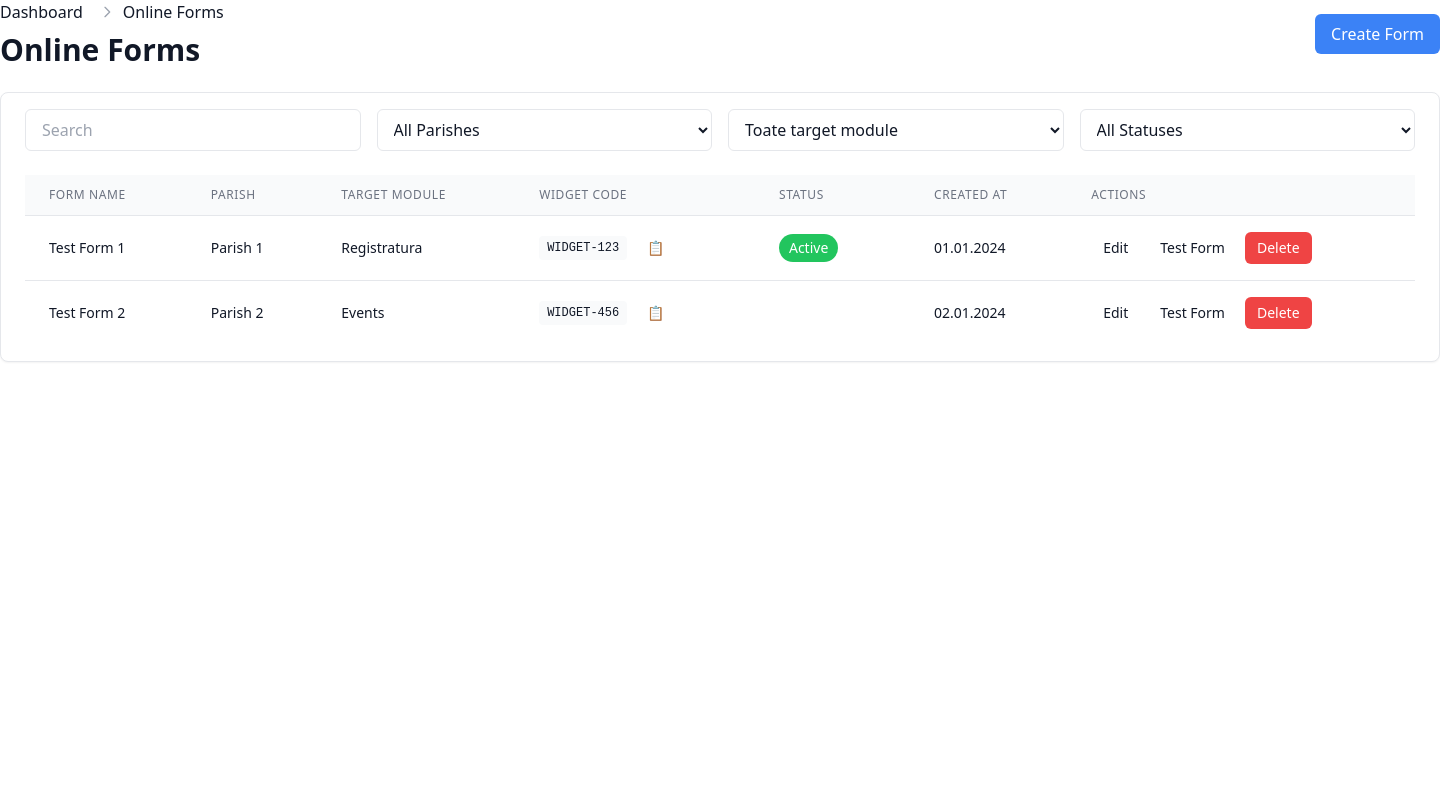
OnlineFormsPageContent › should open delete confirmation modal
Click the button "Delete" in the row of "Test Form 1".
click(1278, 248)  # box [1245,232,1312,264]
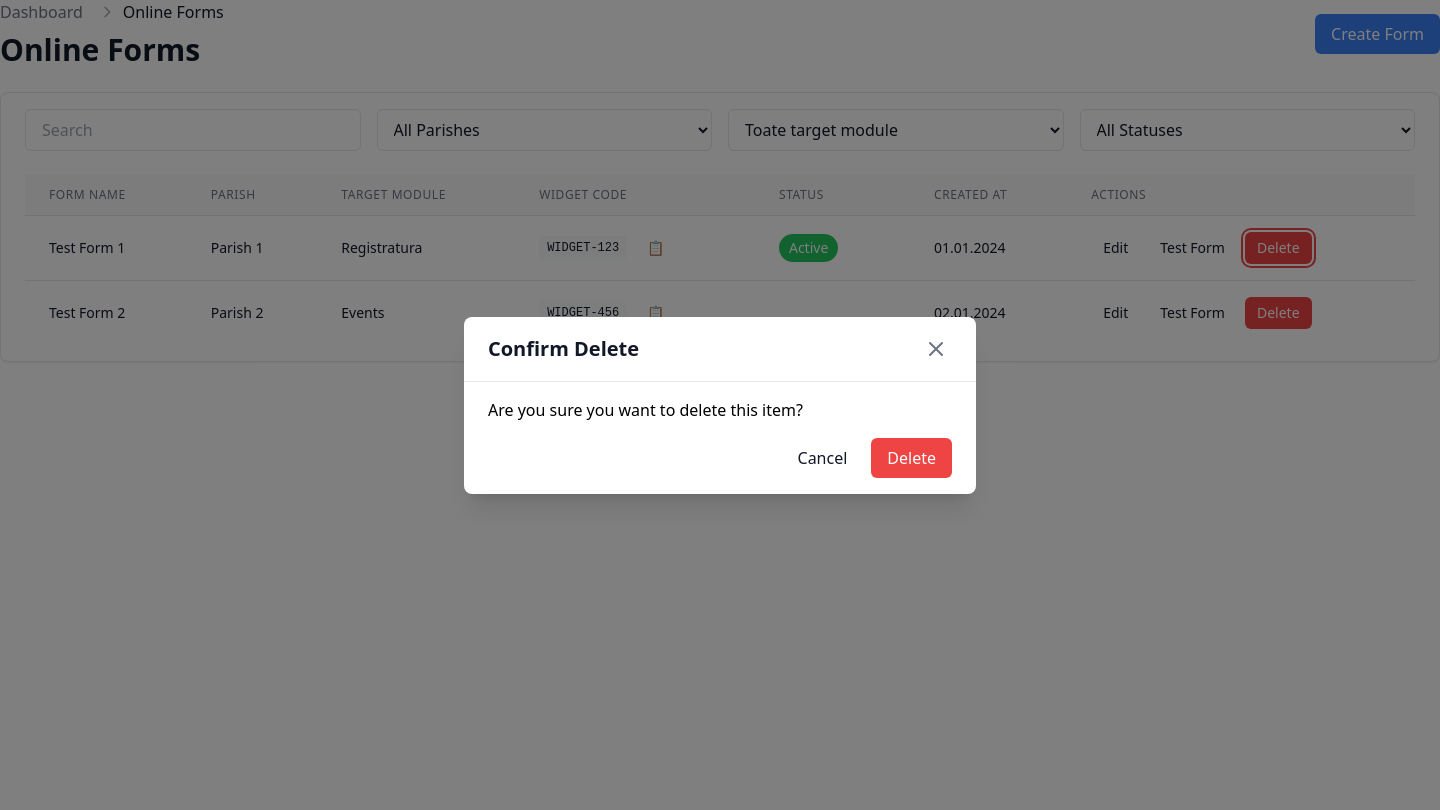
expect the heading "Confirm Delete" is shown: met, box [488,334,639,362]
expect the text "Are you sure you want to delete this item?" is shown: met, box [488,398,803,420]
